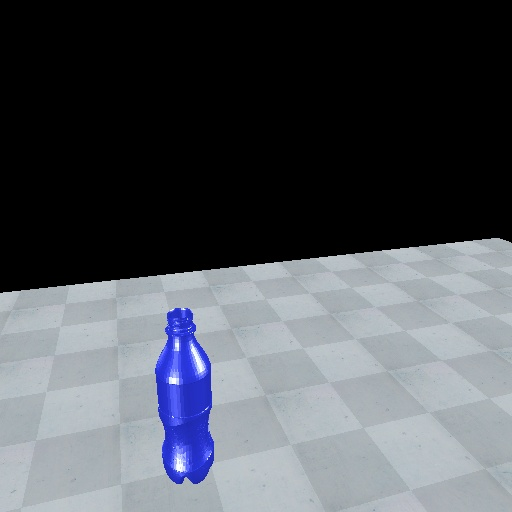bottle: (152, 306, 217, 486)
